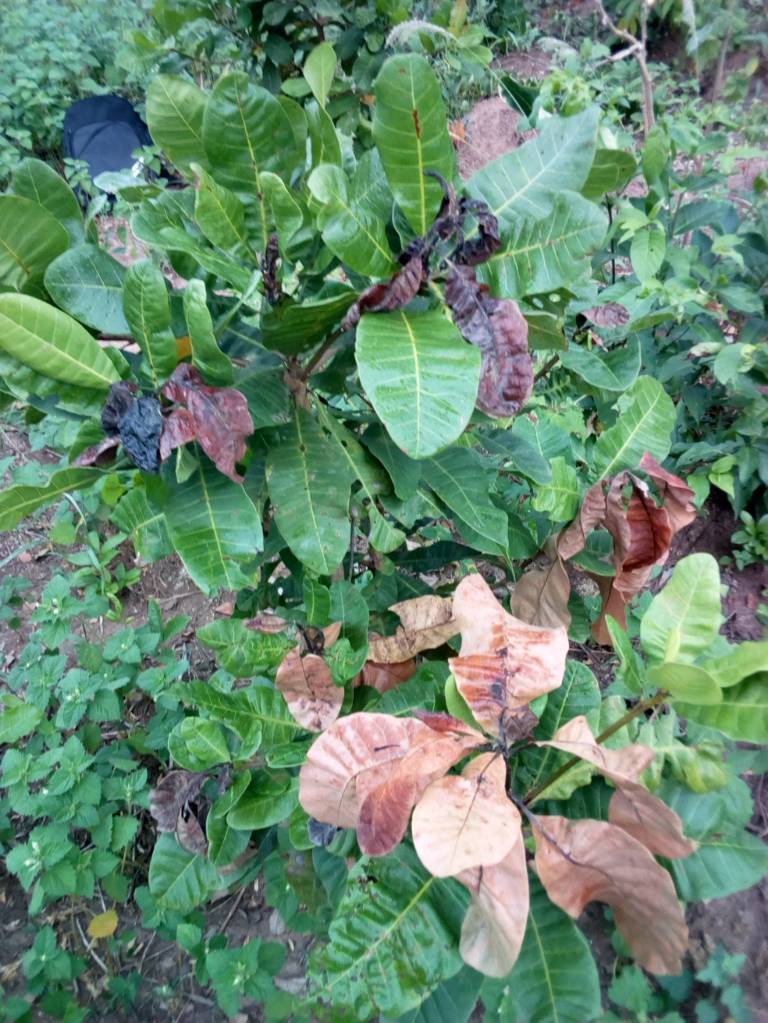Dessèchement des bourgeons: (396, 177, 522, 333), (106, 376, 191, 461)
